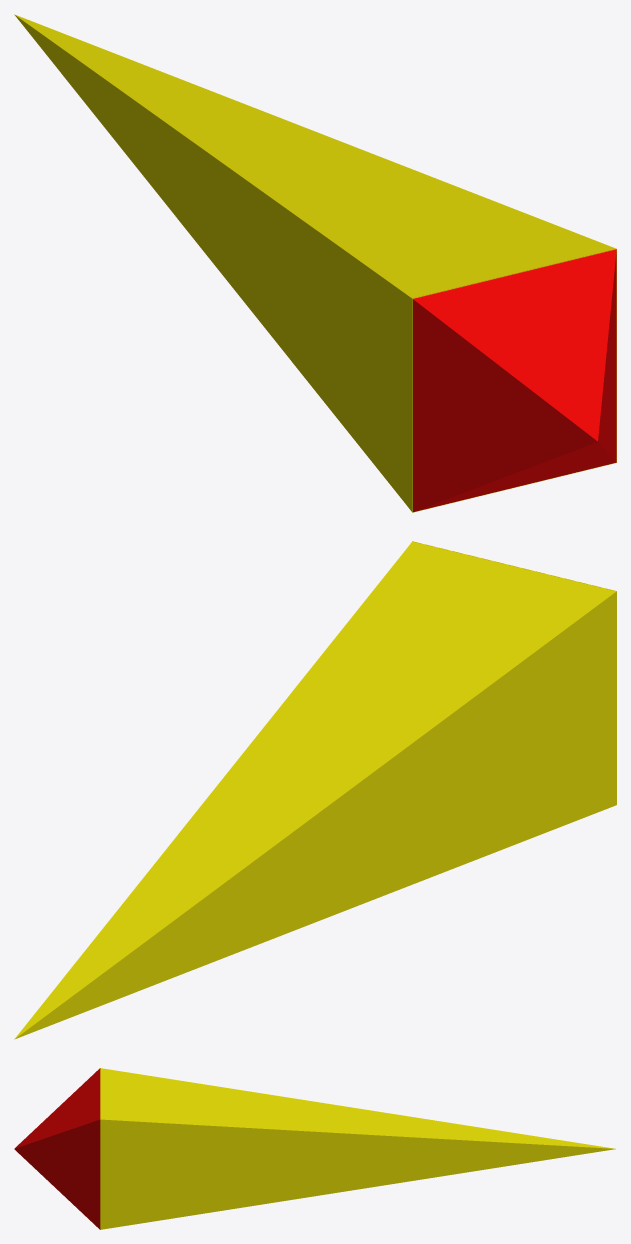
The model's file is Rocket.fbx.
3 views of the same model, one above another, from view 1: azimuth 30°, elevation 25°; view 2: azimuth 150°, elevation 25°; view 3: azimuth 270°, elevation 25° (orthographic). The views are drawn at different scales.
Visible parts, largest first — view 1: pPyramid2, pPyramid1; view 2: pPyramid2; view 3: pPyramid2, pPyramid1.
Part boxes in pixels (x1=…): pPyramid2: x1=14, y1=14, x2=616, y2=512; pPyramid1: x1=413, y1=249, x2=616, y2=512; pPyramid2: x1=14, y1=541, x2=616, y2=1039; pPyramid2: x1=100, y1=1068, x2=615, y2=1229; pPyramid1: x1=14, y1=1068, x2=100, y2=1229.
Size of the model in its own units: 1.13 by 1.13 by 5.6.
